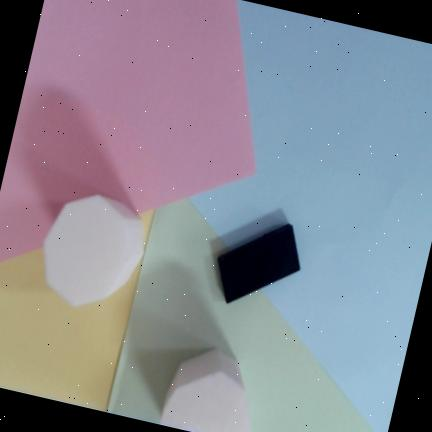Paralelepipedo: (218, 224, 300, 304)
Prisma_hexagonal: (44, 195, 144, 307), (158, 348, 248, 432)
